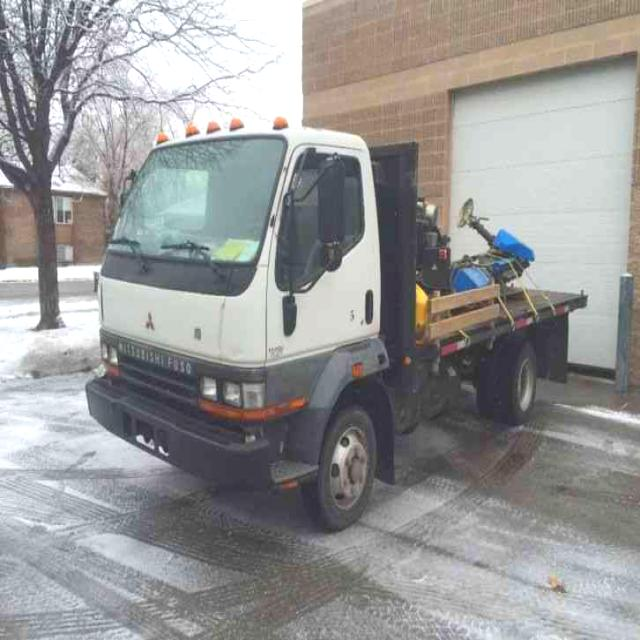truck: (87, 119, 587, 527)
